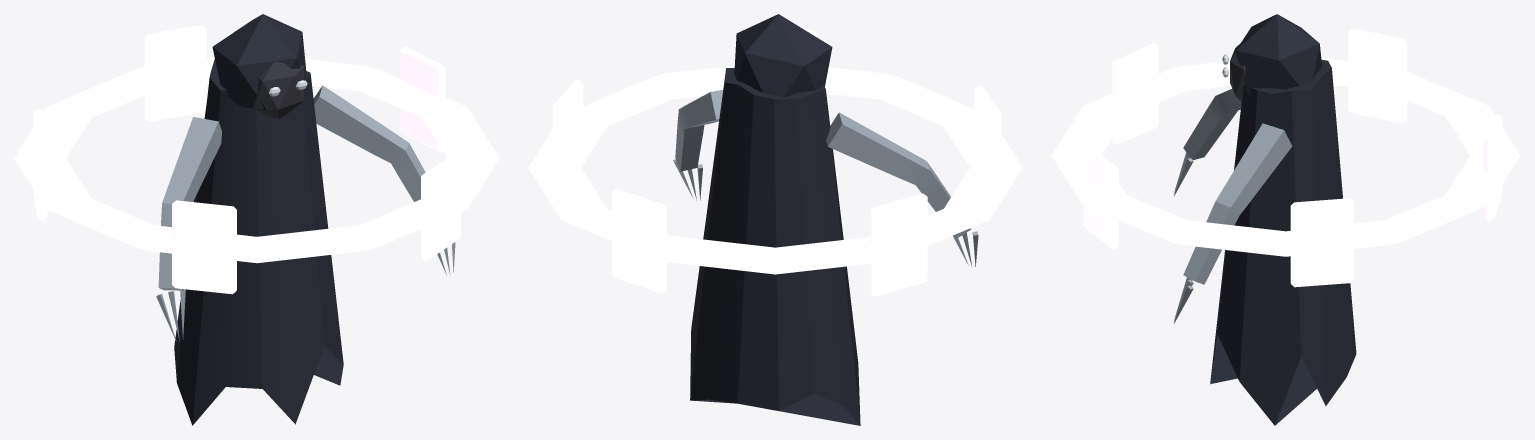
The model's file is CT_Wraith.fbx.
3 renders of one model, left to right at view 1: azimuth 30°, elevation 25°; view 2: azimuth 150°, elevation 25°; view 3: azimuth 270°, elevation 25°, orthographic. The views are drawn at different scales.
Visible parts, largest first — view 1: CT_Wraith; view 2: CT_Wraith; view 3: CT_Wraith.
Part boxes in pixels (bbox=[...]): CT_Wraith: bbox=[14, 14, 499, 425]; CT_Wraith: bbox=[528, 14, 1022, 425]; CT_Wraith: bbox=[1051, 14, 1520, 425].
Bounding box in the file's own units: 2.8 × 2.48 × 2.8.
